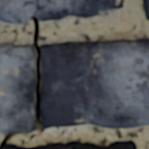brick: (0, 141, 136, 148), (144, 0, 148, 19)
broken_brick: (41, 37, 148, 129), (0, 41, 34, 133), (0, 0, 120, 25)
crack: (0, 2, 46, 146), (120, 0, 123, 8)
